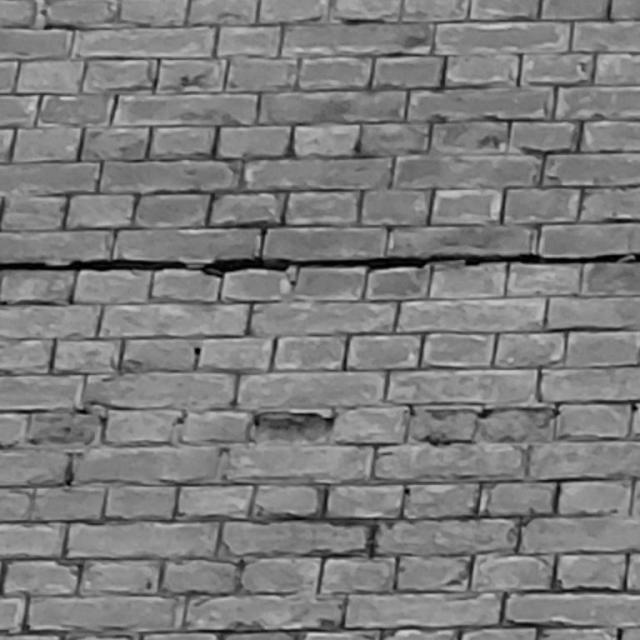crack: (1, 252, 638, 278)
